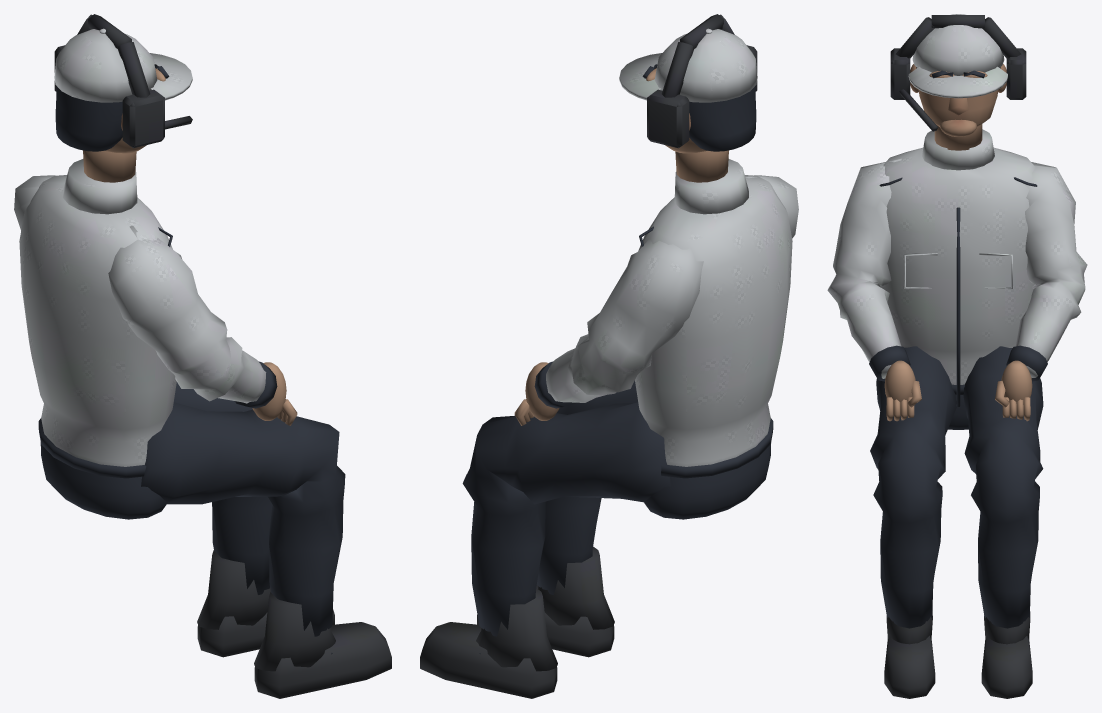
File: crew-engineer-seated_high.glb
The picture shows the model from 3 angles, left to right: view 1: azimuth 30°, elevation 25°; view 2: azimuth 150°, elevation 25°; view 3: azimuth 270°, elevation 25°; orthographic projection. The views are drawn at different scales.
Parts seen in each view (by area): view 1: clothing, dark-fabric, rubber, skin; view 2: clothing, dark-fabric, rubber, skin; view 3: clothing, dark-fabric, rubber, skin.
Boxes of the visible parts, left/top/right/bottom form: clothing: left=14, top=28, right=266, bottom=466; dark-fabric: left=38, top=64, right=345, bottom=654; rubber: left=54, top=14, right=391, bottom=698; skin: left=83, top=68, right=297, bottom=425; clothing: left=546, top=28, right=798, bottom=466; dark-fabric: left=462, top=64, right=773, bottom=653; rubber: left=420, top=14, right=757, bottom=698; skin: left=514, top=68, right=728, bottom=425; clothing: left=827, top=14, right=1087, bottom=384; dark-fabric: left=869, top=67, right=1047, bottom=641; rubber: left=884, top=15, right=1032, bottom=698; skin: left=884, top=64, right=1032, bottom=421.
Size of the model in its own units: 0.6844 by 1.38 by 0.5602.
4 materials, 3 textured.
